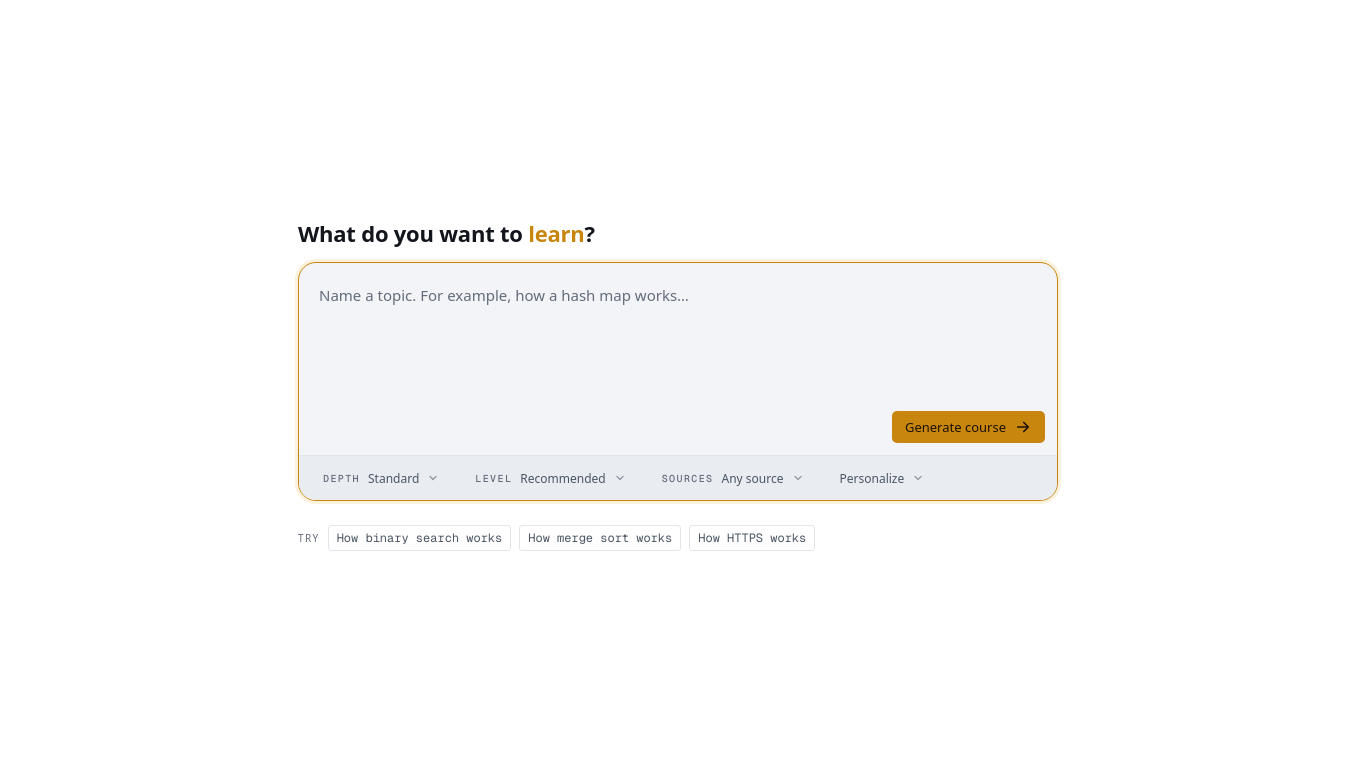
IdleCourseSetup › keeps the depth control in the options bar available regardless of the brief
The image size is (1366, 759).
Step 1. Click the button "Depth Standard" → [381, 478], box [311,464,451,492]
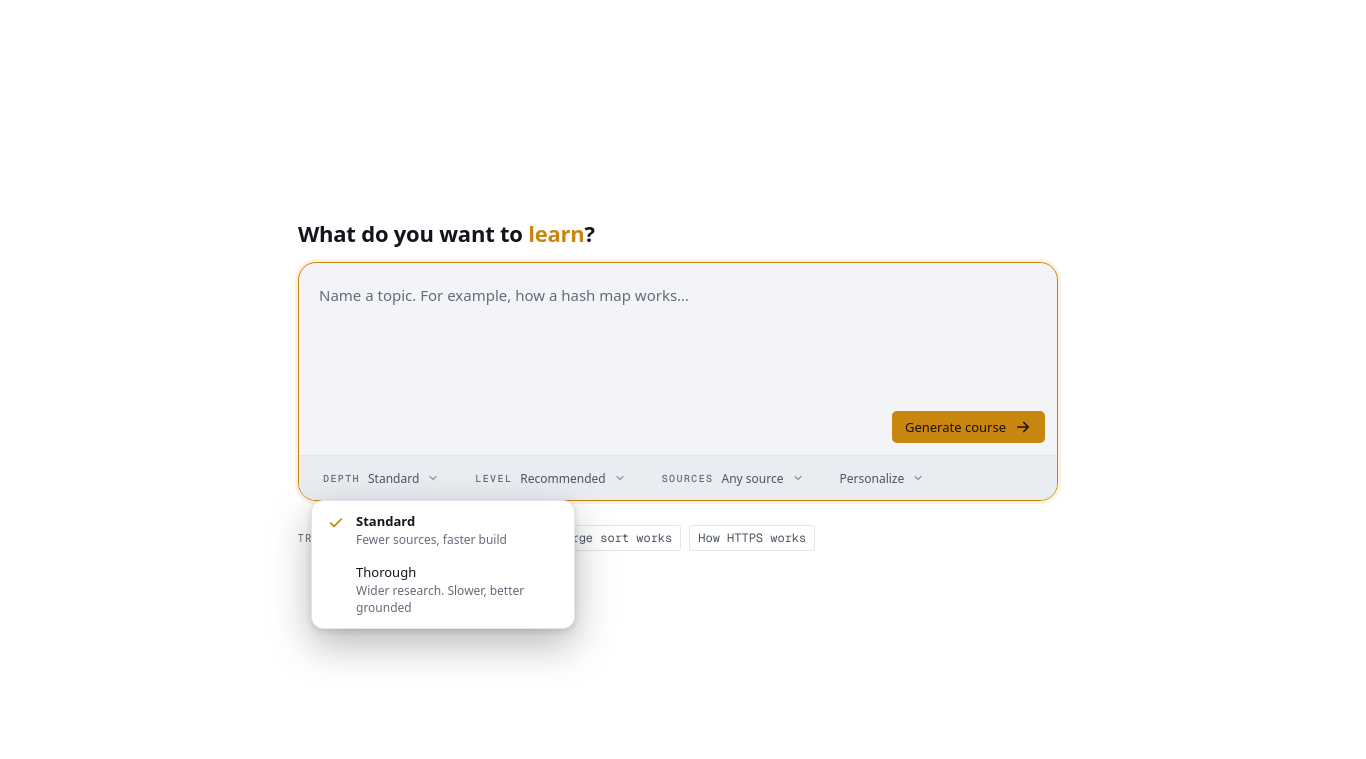
Result: the menu item "Standard Fewer sources, faster build" is shown at [316,505,570,556]
Result: the menu item "Thorough Wider research. Slower, better grounded" is shown at [316,556,570,624]
Step 2. Press Escape in the menu named "Depth", box [311,500,575,630]
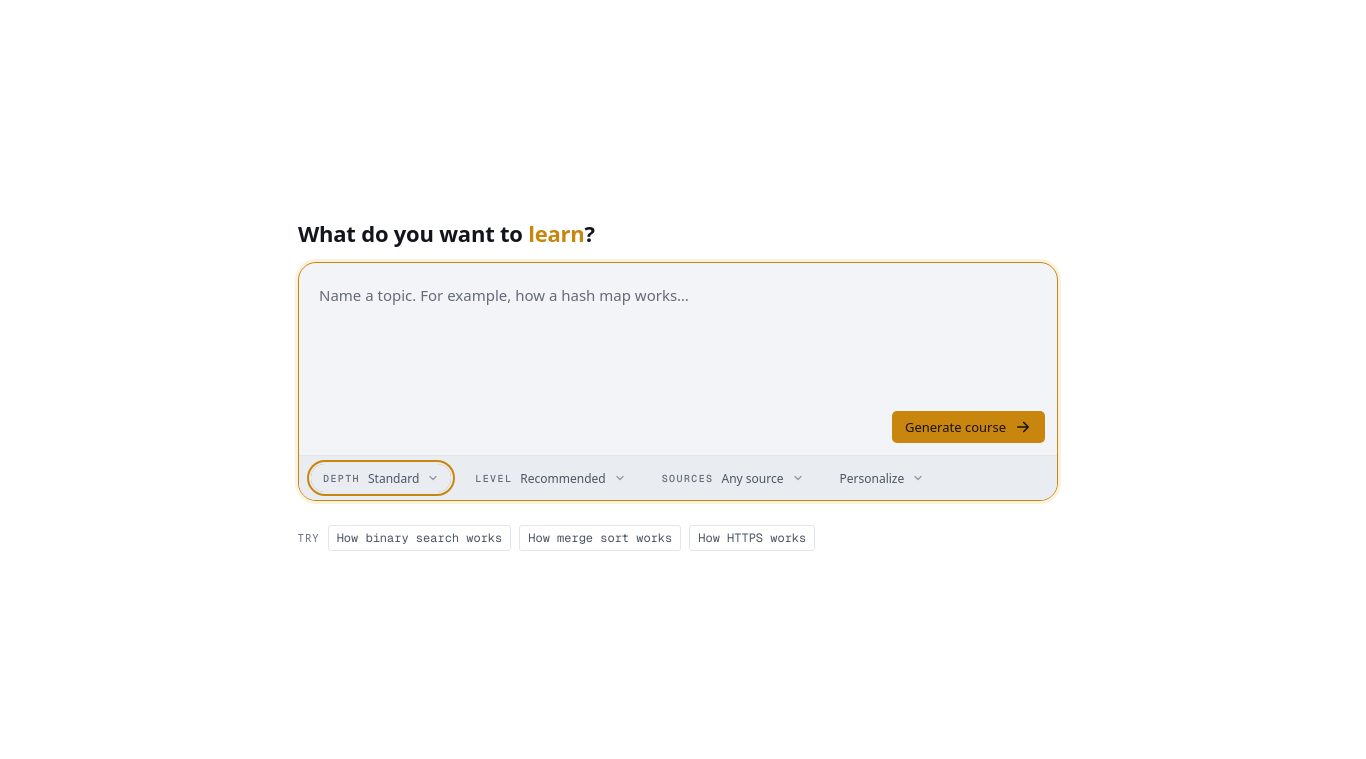
Step 3. Type "english" into the text box labelled "topic" → [678, 337], box [299,263,1057,411]
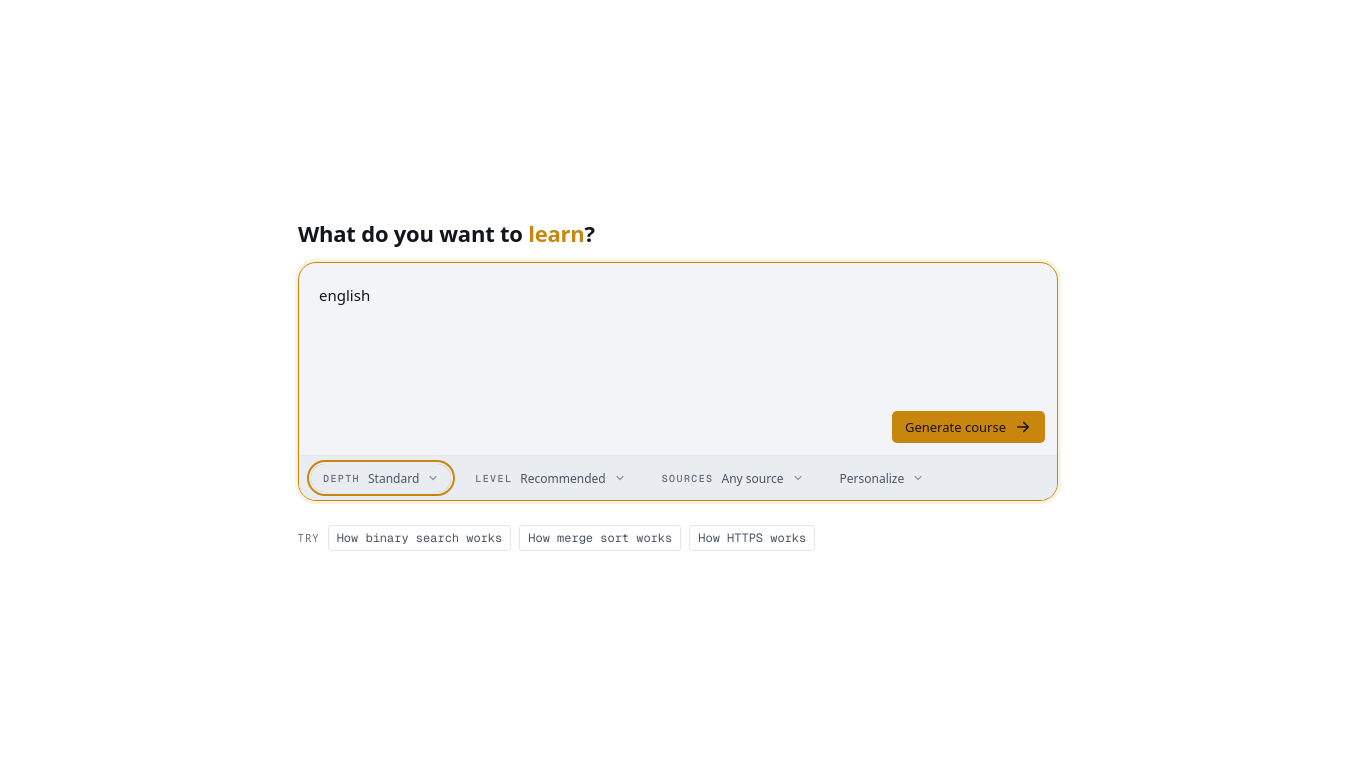
Step 4. Click the button "Personalize" → [882, 478], box [828,464,936,492]
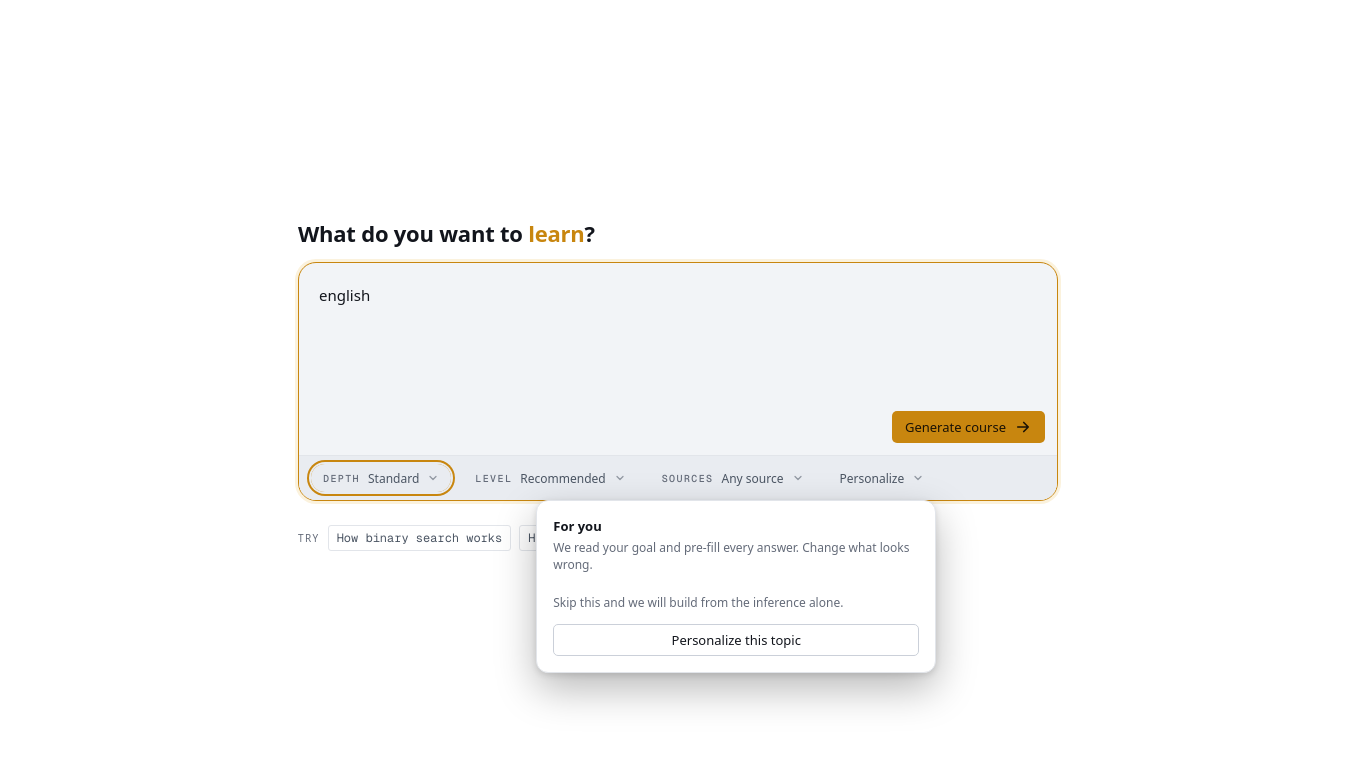
Step 5. Click the button "Personalize this topic" → [736, 640], box [553,624,919,656]
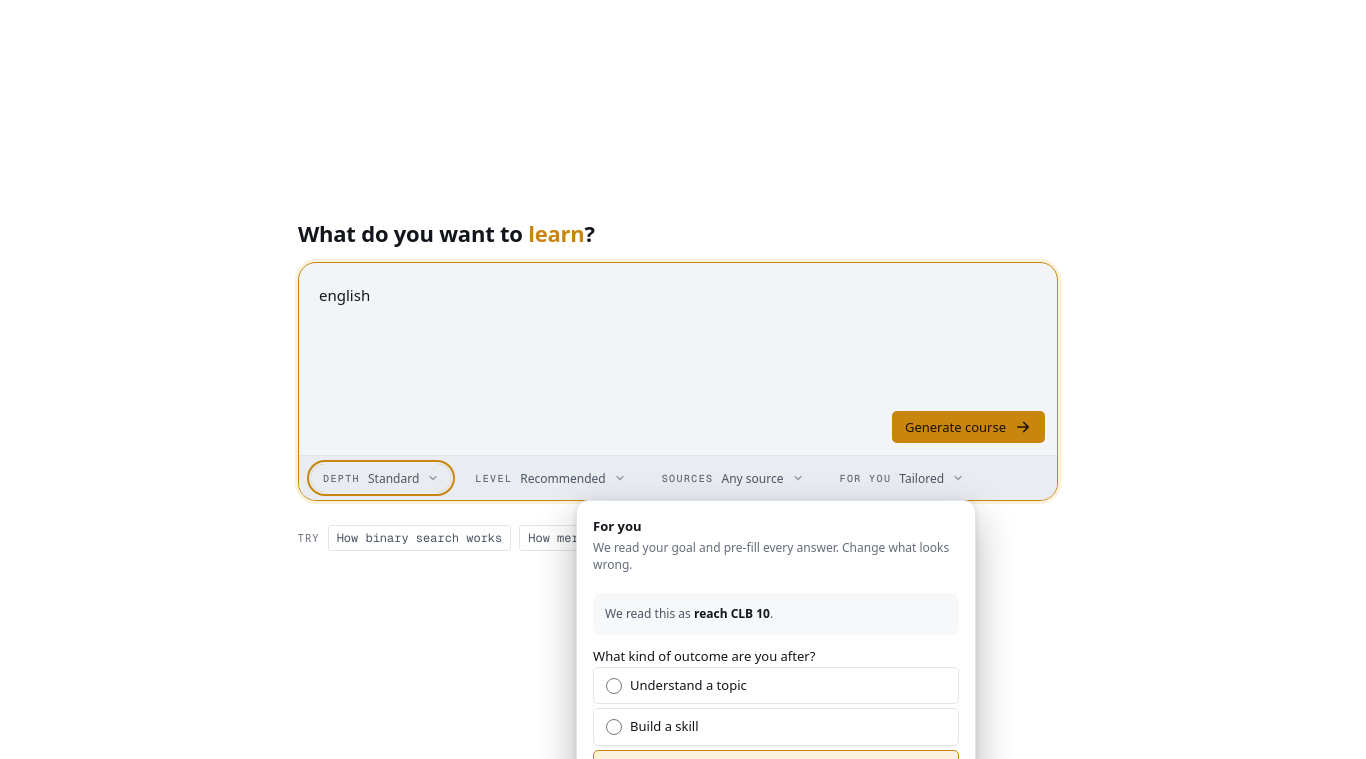
Expected: the button "Depth Standard" is shown, [311,464,451,492]
Result: the text "reach CLB 10" is shown at [694,605,770,622]
